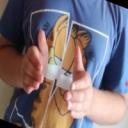hand: (63, 48, 92, 120), (22, 30, 48, 94)
